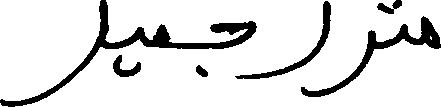X: (0, 0, 107, 106), (270, 0, 329, 101), (331, 25, 375, 97), (210, 16, 254, 83), (422, 11, 440, 53), (132, 22, 143, 80), (156, 19, 169, 52), (399, 0, 406, 46)
